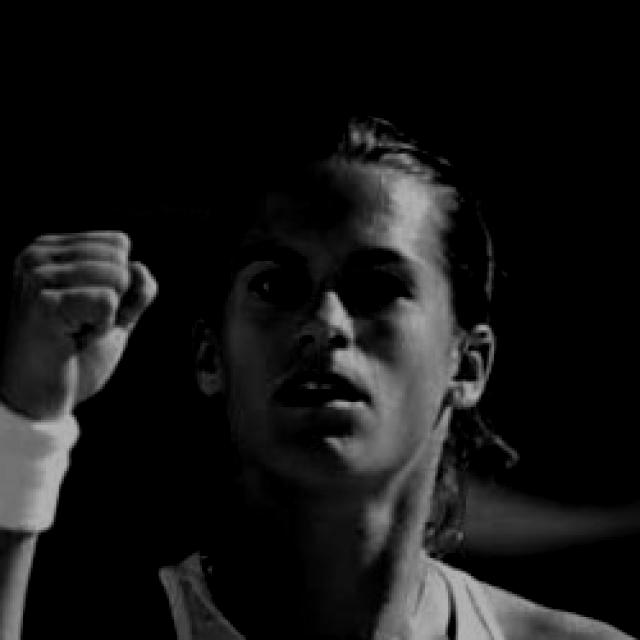real: (176, 100, 490, 514), (239, 244, 434, 312)
